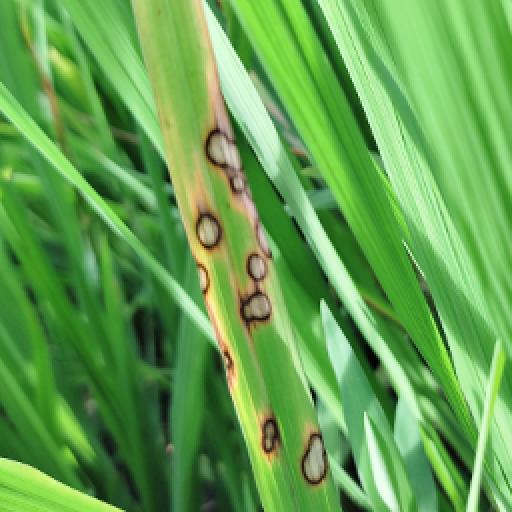Brown Spot: (200, 122, 266, 202), (242, 212, 280, 288), (296, 422, 332, 488), (186, 208, 228, 258), (256, 402, 288, 464), (232, 286, 276, 328), (214, 340, 250, 386), (188, 258, 214, 298)
